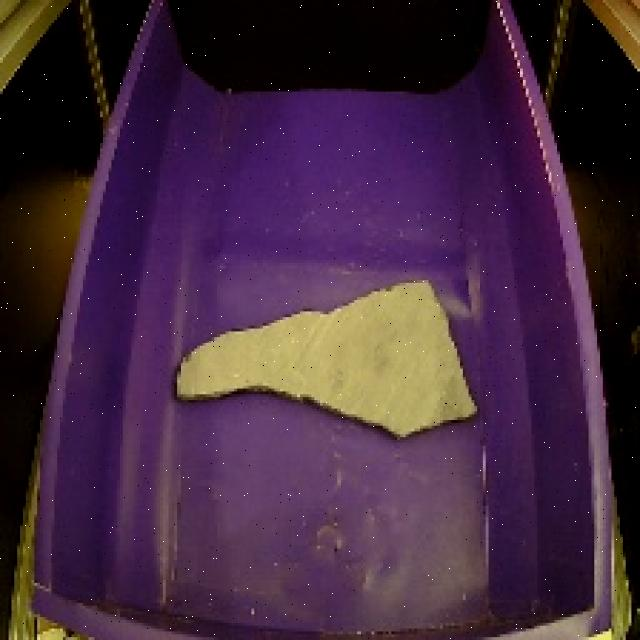china: (162, 271, 492, 450)
